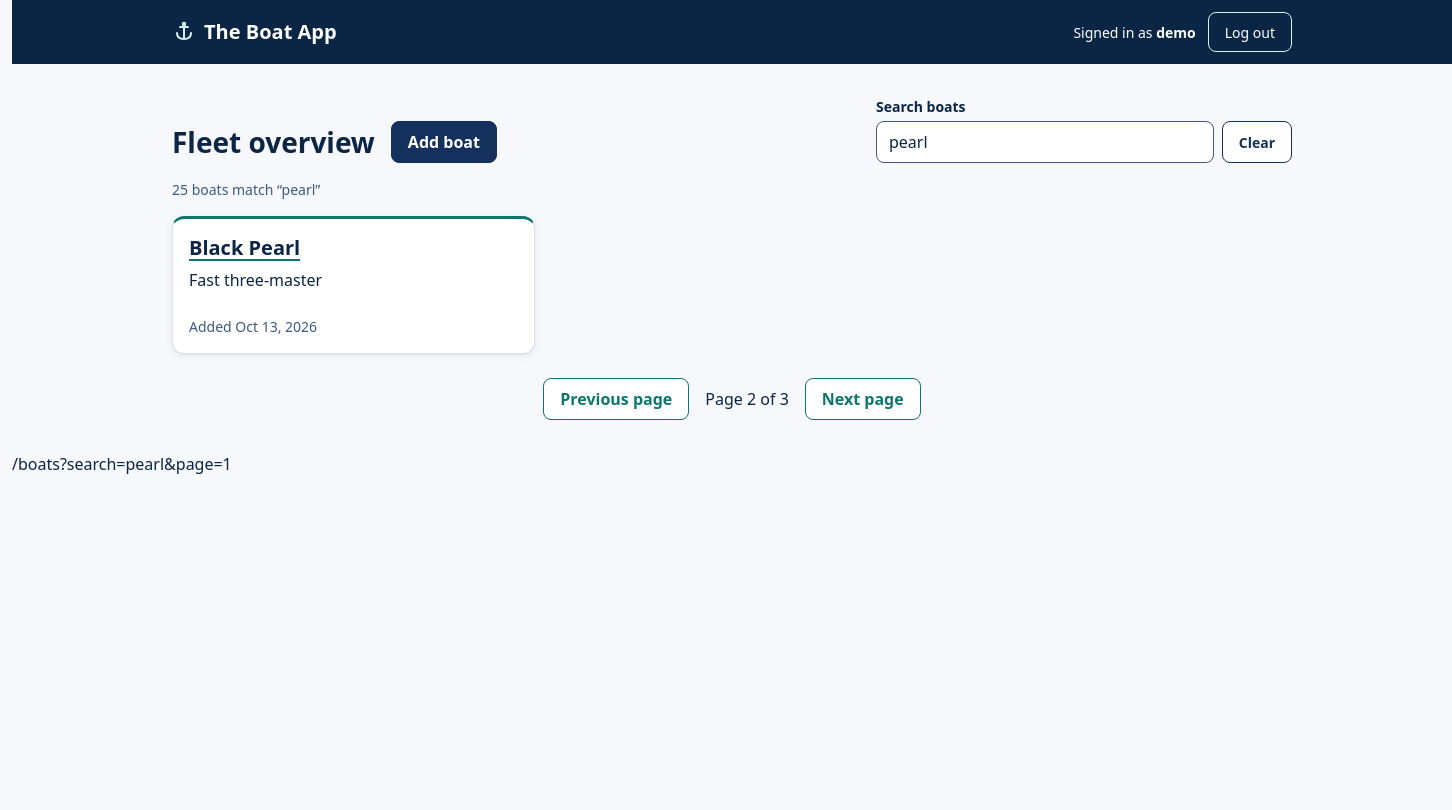
it: EditBoatPage › is opened from the detail page and cancels back to it, keeping the fleet context
The width and height of the screenshot is (1452, 810).
Click the link "Black Pearl" at {"x": 245, "y": 248}, box [189,234,300,261]
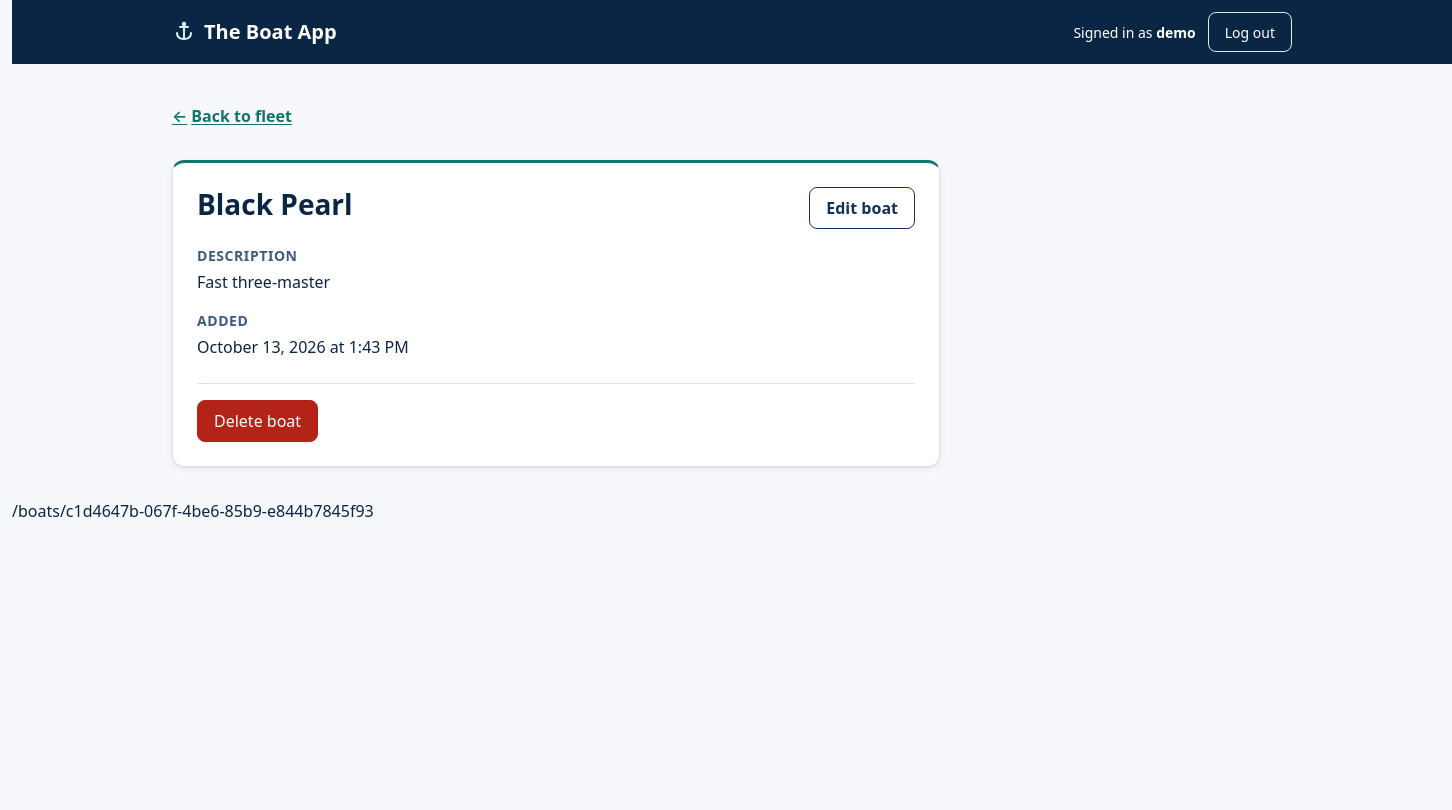
Click the link "Edit boat" at {"x": 862, "y": 208}, box [809,187,915,229]
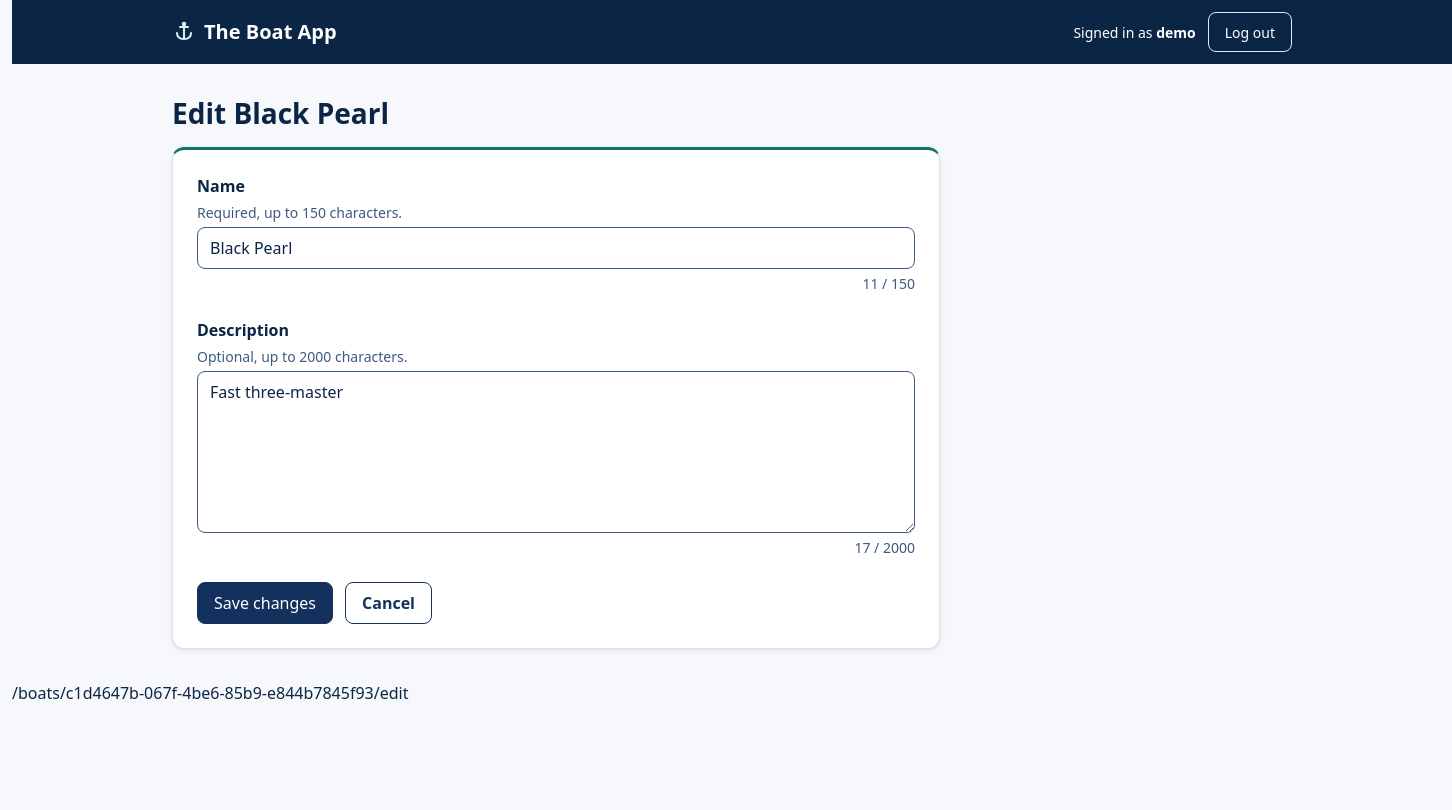
Click the link "Cancel" at {"x": 388, "y": 603}, box [345,582,432,624]
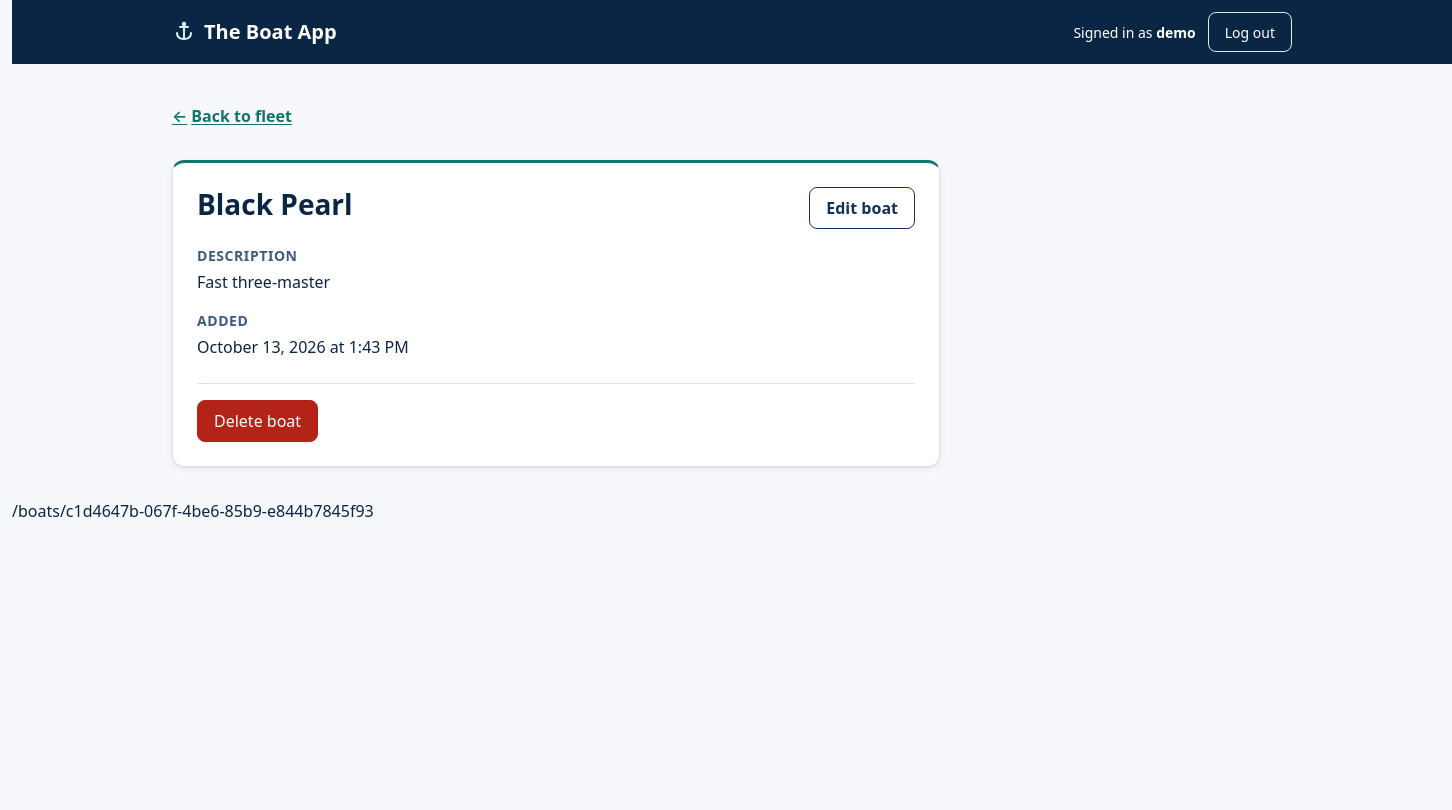
Click the link "← Back to fleet" at {"x": 232, "y": 116}, box [172,105,292,127]
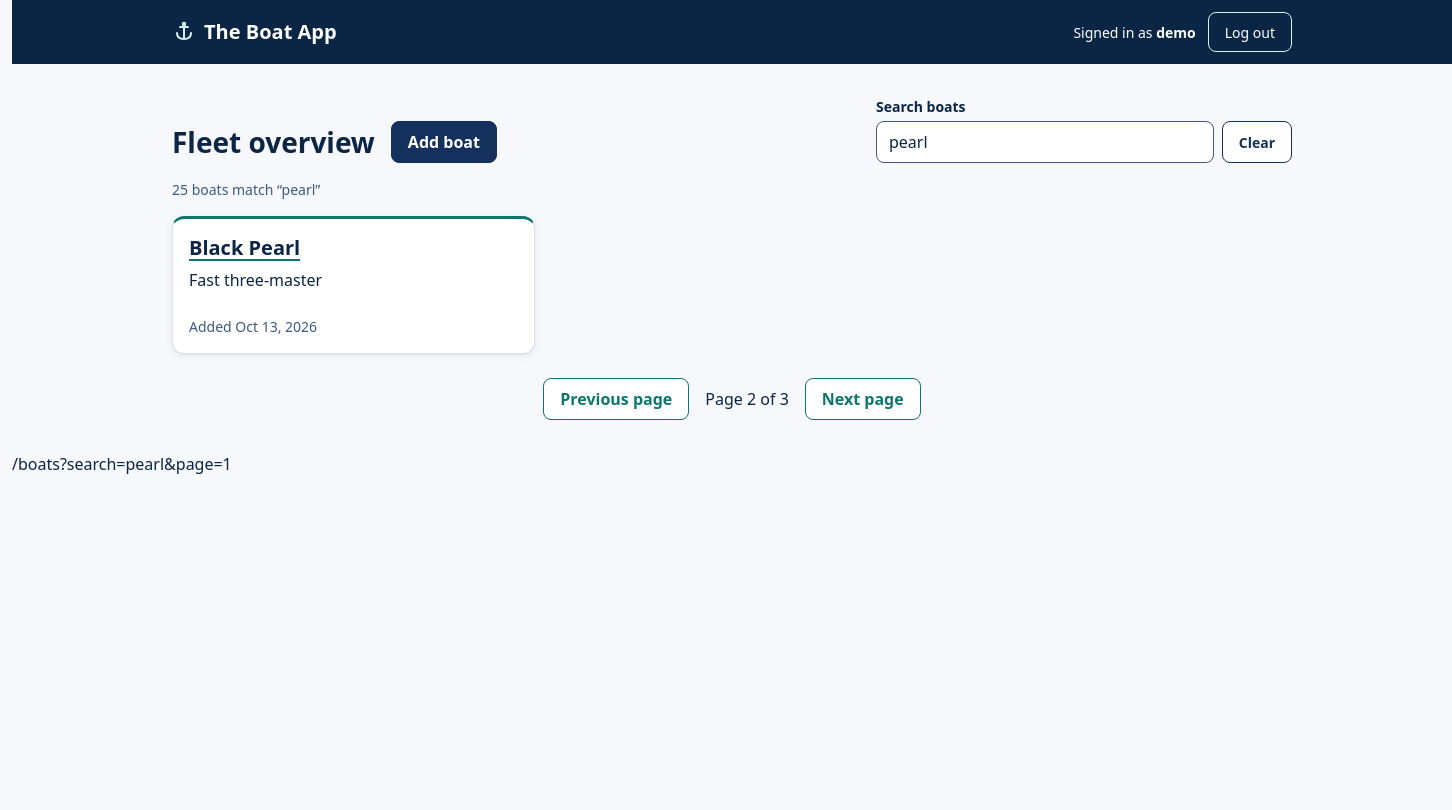
Now the text with test id "location" reads "/boats?search=pearl&page=1", box [12,453,232,475]
